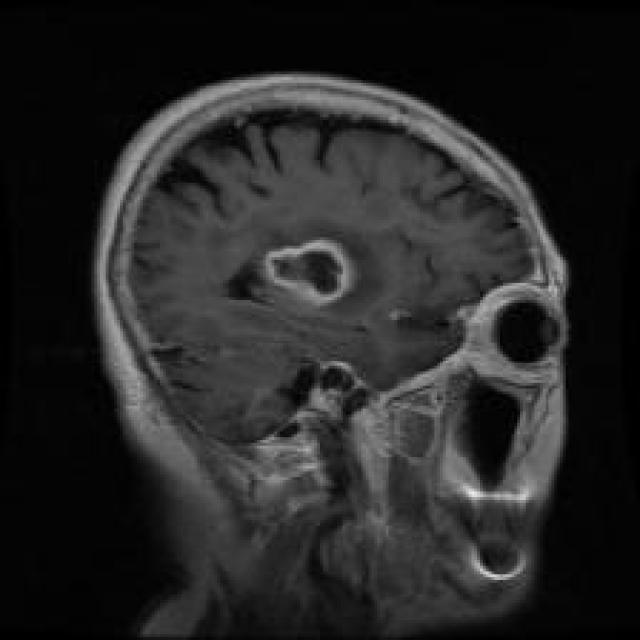glioma_tumor: (207, 216, 382, 321)
